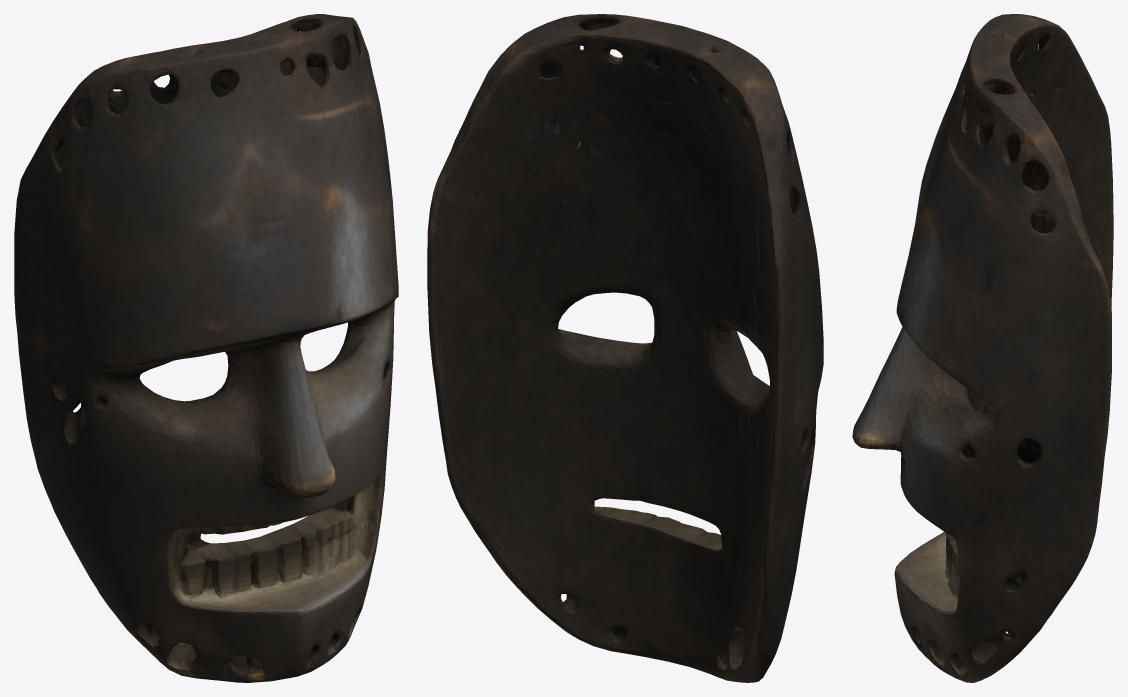
File: squaregrey.glb
3 views of the same model, side by side, from view 1: azimuth 30°, elevation 25°; view 2: azimuth 150°, elevation 25°; view 3: azimuth 270°, elevation 25° (orthographic). The views are drawn at different scales.
Parts seen in each view (by area): view 1: world; view 2: world; view 3: world.
Part boxes in pixels (x1=…): world: x1=14, y1=14, x2=398, y2=682; world: x1=427, y1=14, x2=823, y2=682; world: x1=852, y1=14, x2=1113, y2=682.
Bounding box in the file's own units: 0.5833 × 0.9994 × 0.4023.
Materials: 1 (1 with a texture image).
